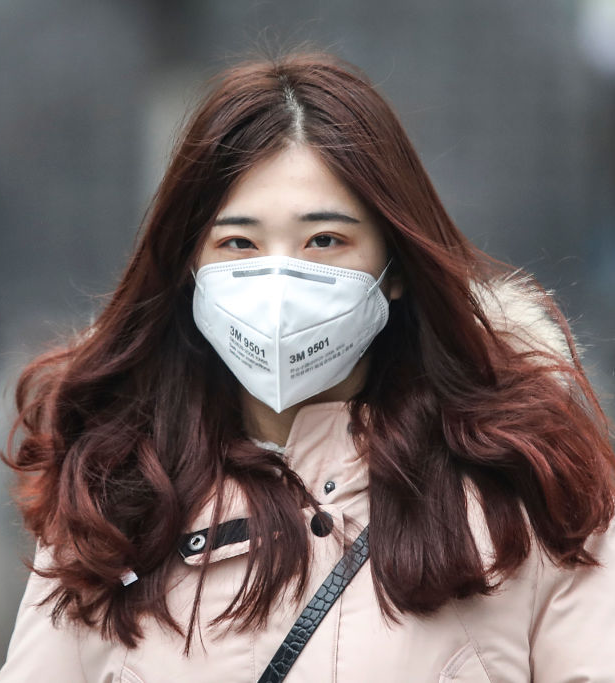with_mask: (186, 156, 391, 410)
